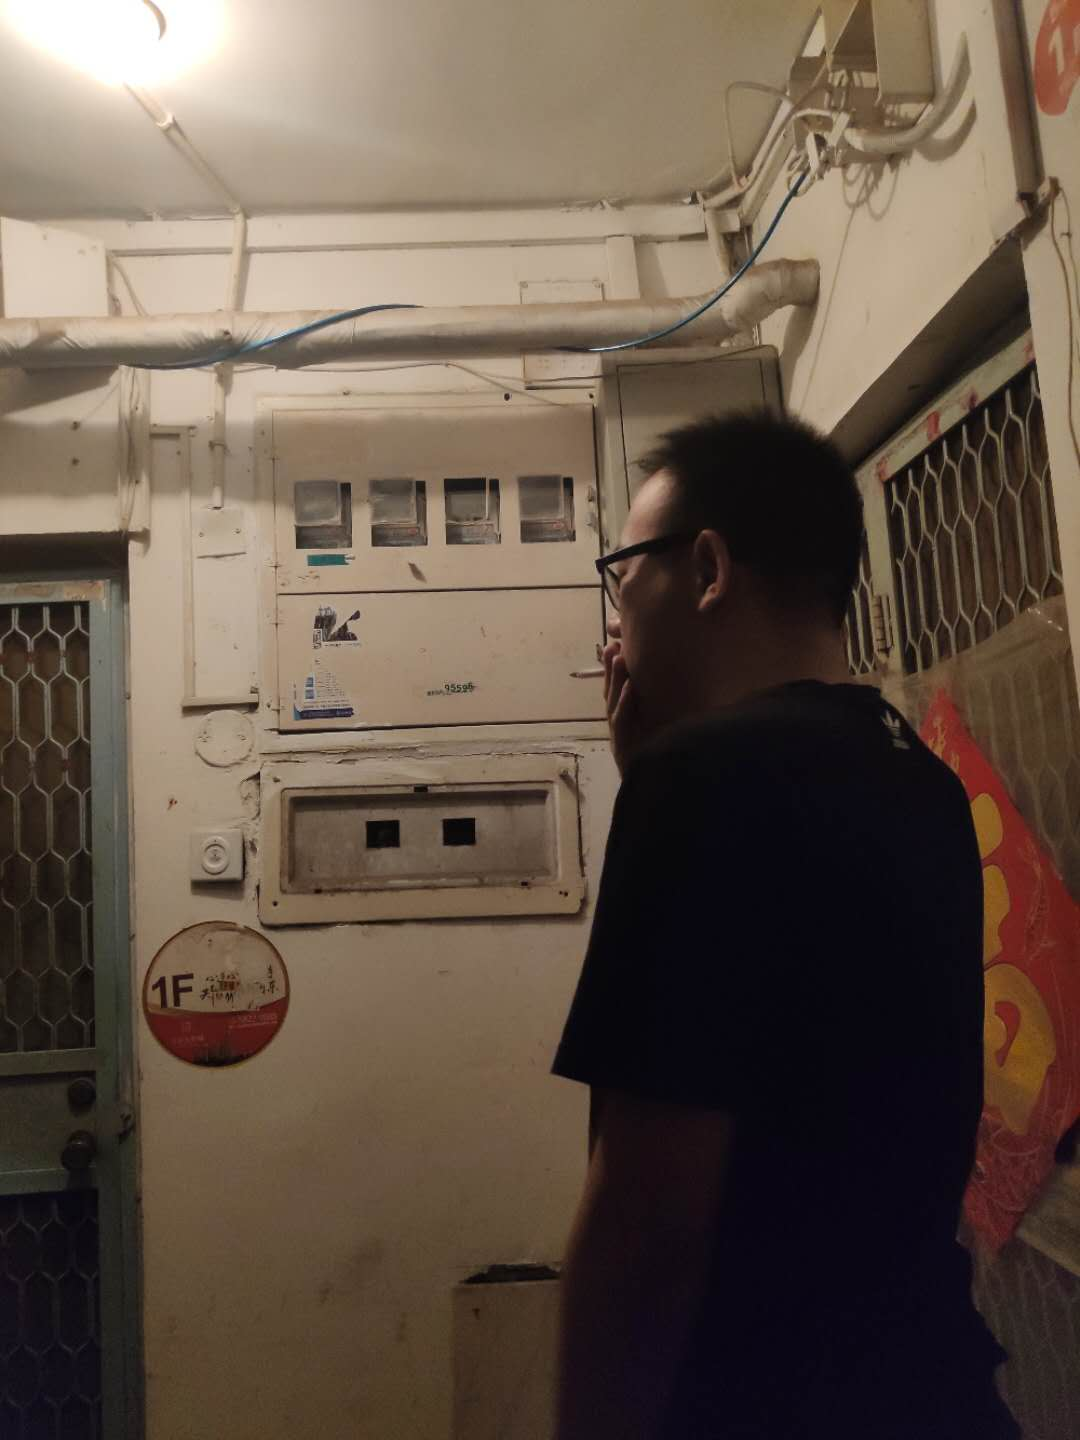smoke: (568, 667, 610, 681)
